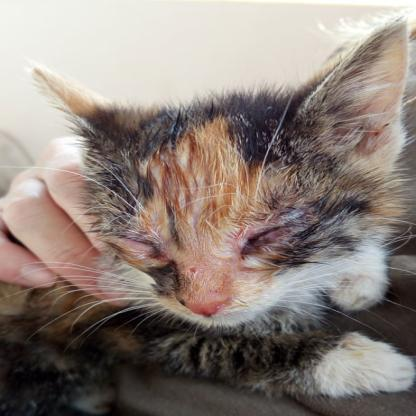cat: (20, 64, 416, 395)
